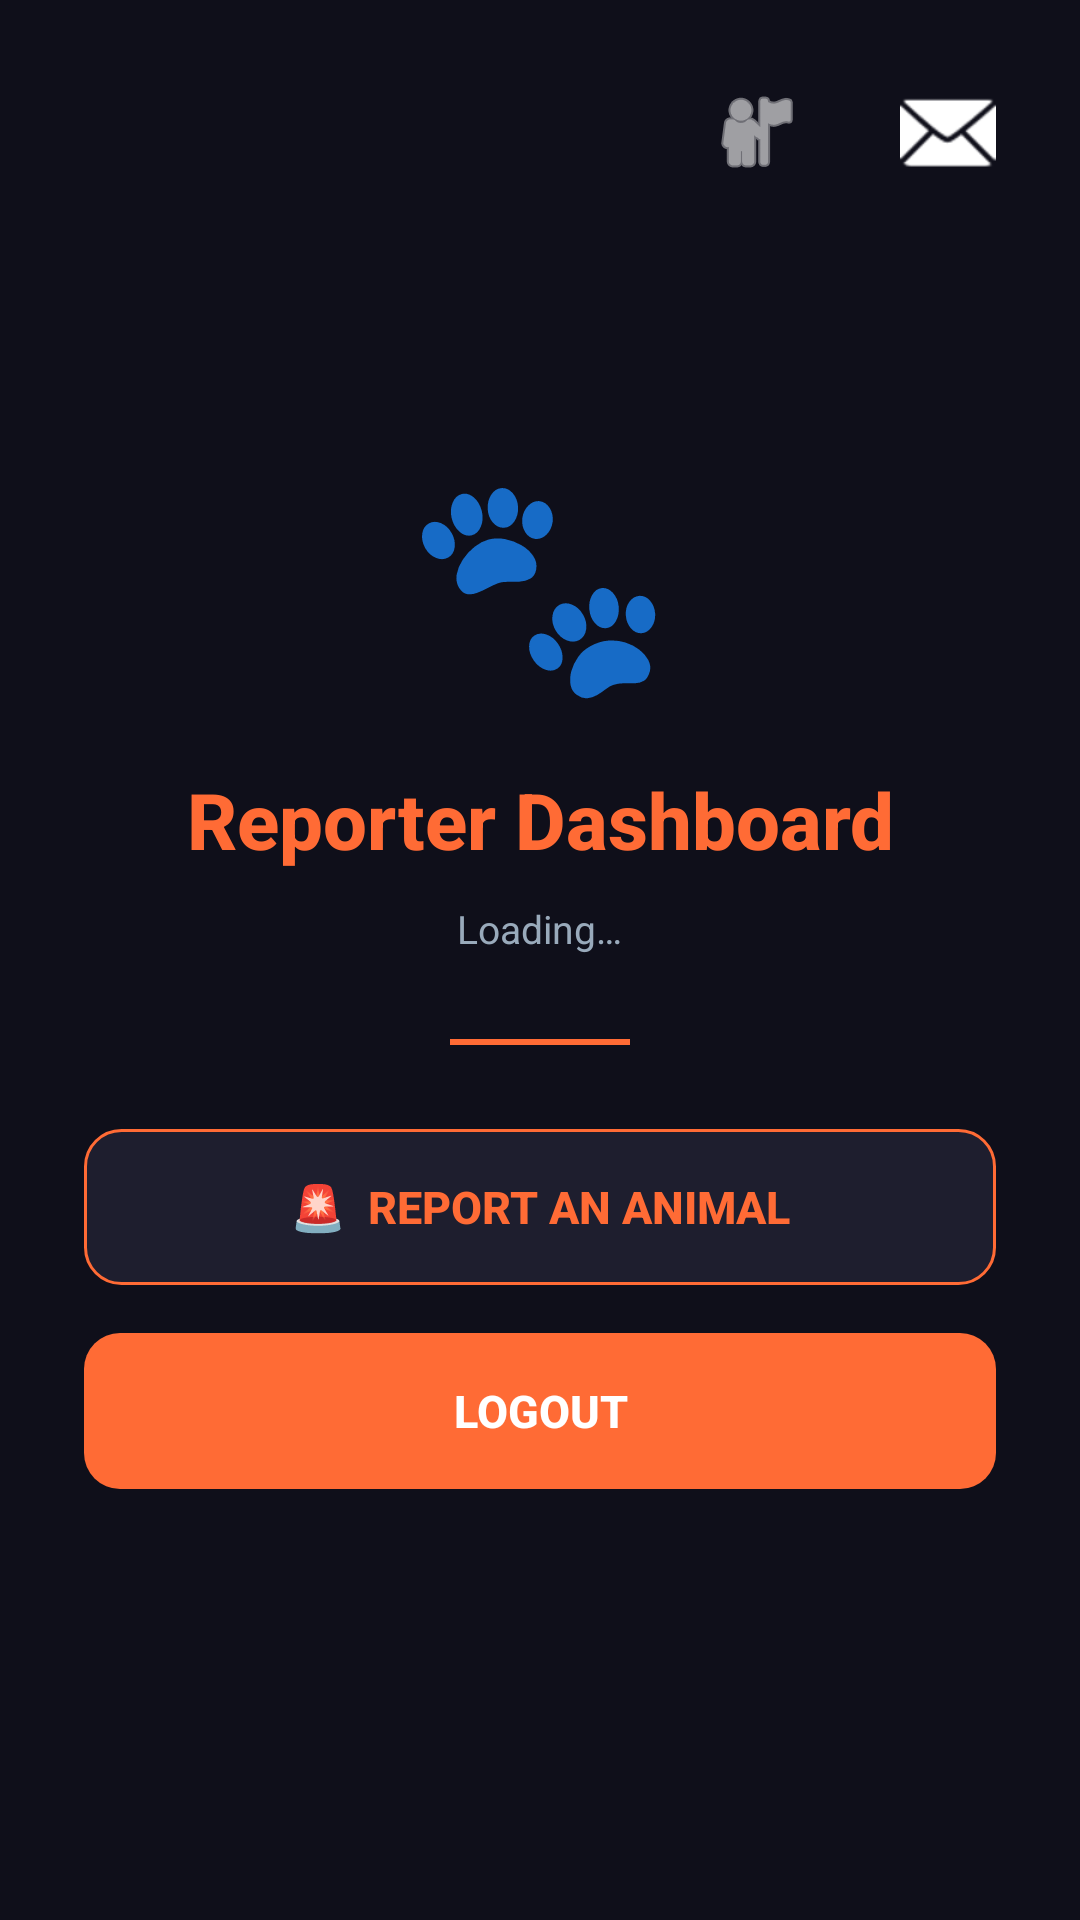

Locate icon controls on the screen. Image size 1080 × 1920, boxes as box=[x1, y1, x2, y2].
Inbox: box=[900, 99, 996, 167]
Profile: box=[721, 96, 793, 168]
